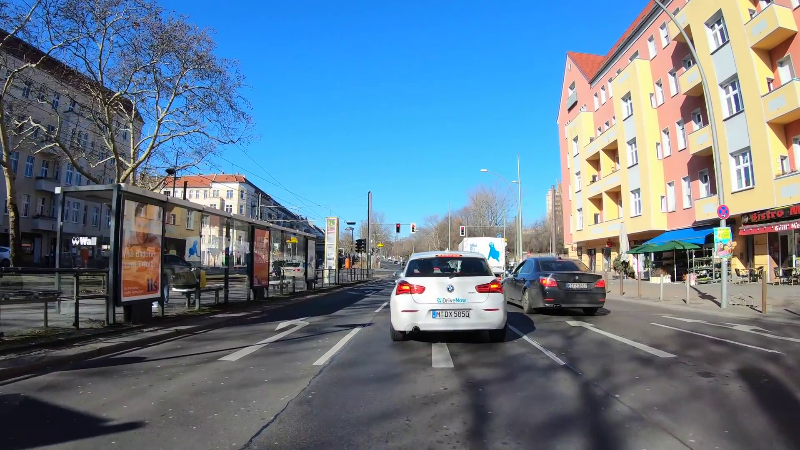Plate: (430, 308, 470, 318), (564, 280, 589, 288)
